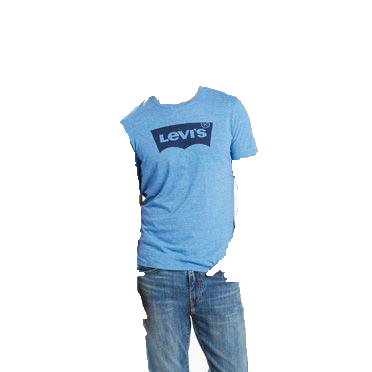teeshirt: (117, 87, 274, 273)
